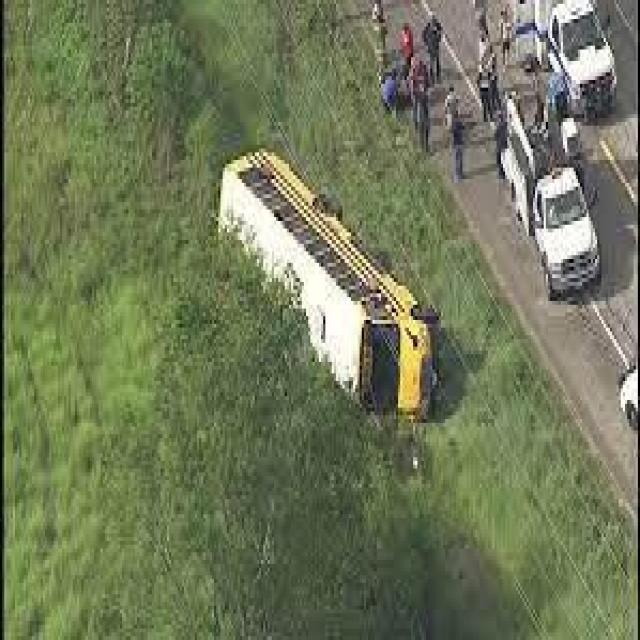severe: (215, 135, 442, 425)
